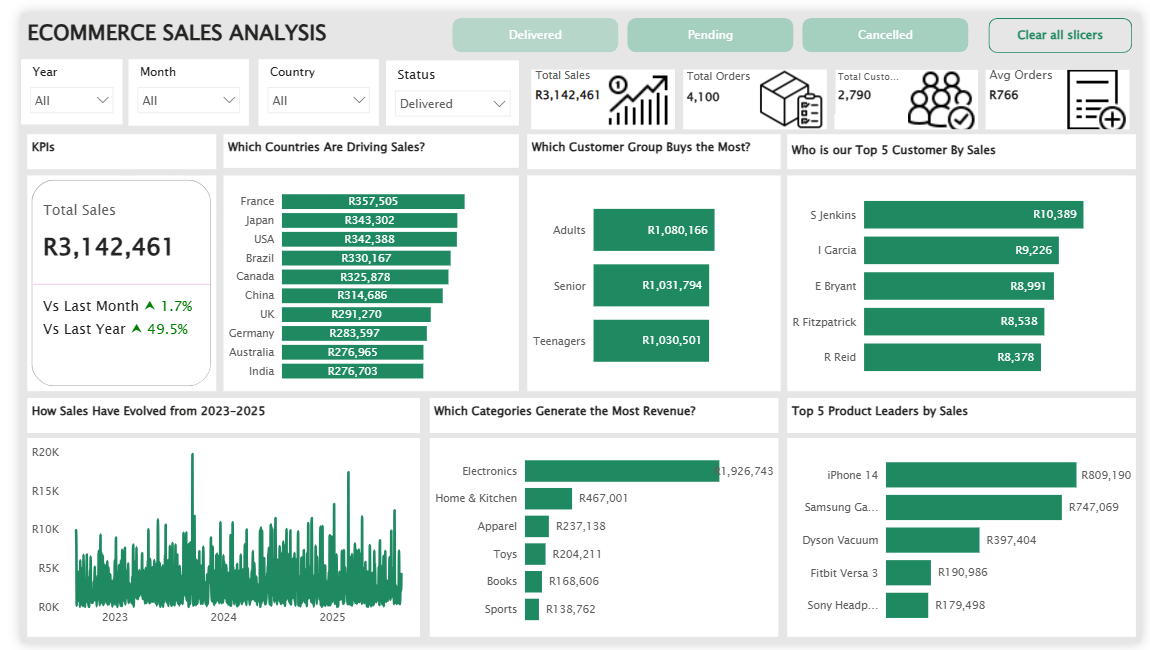

The dashboard page shown, as its layout file describes it:
{"tool":"powerbi","page":{"name":"Overview","canvas":[1280,720],"ordinal":0},"visuals":[{"type":"cardVisual","fields":{"Data":["My Measures.Total Sales","My Measures.Total Orders","My Measures.Total Customers","My Measures.Avg Order Values"]},"box":[577.9,53.1,702.1,74.8],"z":0,"group":"g1"},{"type":"barChart","fields":{"Category":["eCommerceData.country"],"Y":["My Measures.Total Sales"]},"box":[231.6,185.8,337.8,246.1],"z":0},{"type":"group","id":"g1","title":"Group 1","box":[577.9,53.1,702.1,74.8],"z":1000},{"type":"barChart","fields":{"Y":["My Measures.Total Sales"],"Category":["eCommerceData.category"]},"box":[466.9,486.2,398.1,226.8],"z":2000},{"type":"barChart","fields":{"Y":["My Measures.Total Sales"],"Category":["eCommerceData.product_name"]},"box":[875.9,486.2,398.1,226.8],"z":3000},{"type":"shape","box":[702.3,60.9,105.7,54.3],"z":3500,"group":"g1"},{"type":"shape","box":[1051.9,61.5,107.7,54.3],"z":4000,"group":"g1"},{"type":"barChart","fields":{"Y":["My Measures.Total Sales"],"Category":["eCommerceData.Full Name"]},"box":[875.9,185.8,398.1,246.1],"z":4000},{"type":"shape","box":[877.1,62.2,105.7,54.3],"z":4500,"group":"g1"},{"type":"lineChart","fields":{"Y":["My Measures.Total Sales"],"Category":["DateTable.Date"]},"box":[7.2,486.2,448.8,226.8],"z":5000},{"type":"slicer","fields":{"Values":["eCommerceData.country"]},"box":[271.4,53.1,137.5,76],"z":6000},{"type":"slicer","fields":{"Values":["DateTable.Year"]},"box":[0,53.1,115.8,74.8],"z":7000},{"type":"slicer","fields":{"Values":["DateTable.Month Name"]},"box":[123.1,53.1,137.5,76],"z":8000},{"type":"cardVisual","fields":{"Data":["My Measures.Total Sales"]},"box":[7.2,185.8,216,246.1],"z":9000},{"type":"textbox","box":[7.2,138.7,216,39.8],"z":10000},{"type":"textbox","box":[231.6,138.7,337.8,38.6],"z":11000},{"type":"textbox","box":[466.9,440.4,398.1,39.8],"z":12000},{"type":"textbox","box":[7.2,440.4,448.8,39.8],"z":13000},{"type":"textbox","box":[875.9,440.4,398.1,39.8],"z":14000},{"type":"textbox","box":[875.9,138.7,398.1,39.8],"z":15000},{"type":"clusteredBarChart","fields":{"Category":["eCommerceData.age_group"],"Y":["My Measures.Total Sales"]},"box":[577.9,185.8,289.5,246.1],"z":16000},{"type":"textbox","box":[577.9,138.7,289.5,39.8],"z":17000},{"type":"textbox","box":[7.2,0,435.5,54.3],"z":18000},{"type":"slicer","fields":{"Values":["eCommerceData.Group Status"]},"box":[417.4,54.3,152,74.8],"z":19000},{"type":"actionButton","box":[1106.3,6,164.1,39.8],"z":20000},{"type":"bookmarkNavigator","box":[493.4,6,591.2,39.8],"z":21000}]}

Visuals, with their boxes in screenshot pixels (x1, y1, x2, y2), scaled from the page's 1280x720 canvas onto the 1150x650 screenshot:
cardVisual - My Measures.Total Sales x My Measures.Total Orders: [left=519, top=48, right=1149, bottom=115]
barChart - eCommerceData.country x My Measures.Total Sales: [left=208, top=168, right=512, bottom=390]
"Group 1" group: [left=519, top=48, right=1149, bottom=115]
barChart - My Measures.Total Sales x eCommerceData.category: [left=419, top=439, right=777, bottom=644]
barChart - My Measures.Total Sales x eCommerceData.product_name: [left=787, top=439, right=1145, bottom=644]
shape: [left=631, top=55, right=726, bottom=104]
shape: [left=945, top=56, right=1042, bottom=105]
barChart - My Measures.Total Sales x eCommerceData.Full Name: [left=787, top=168, right=1145, bottom=390]
shape: [left=788, top=56, right=883, bottom=105]
lineChart - My Measures.Total Sales x DateTable.Date: [left=6, top=439, right=410, bottom=644]
slicer - eCommerceData.country: [left=244, top=48, right=367, bottom=117]
slicer - DateTable.Year: [left=0, top=48, right=104, bottom=115]
slicer - DateTable.Month Name: [left=111, top=48, right=234, bottom=117]
cardVisual - My Measures.Total Sales: [left=6, top=168, right=201, bottom=390]
textbox: [left=6, top=125, right=201, bottom=161]
textbox: [left=208, top=125, right=512, bottom=160]
textbox: [left=419, top=398, right=777, bottom=434]
textbox: [left=6, top=398, right=410, bottom=434]
textbox: [left=787, top=398, right=1145, bottom=434]
textbox: [left=787, top=125, right=1145, bottom=161]
clusteredBarChart - eCommerceData.age_group x My Measures.Total Sales: [left=519, top=168, right=779, bottom=390]
textbox: [left=519, top=125, right=779, bottom=161]
textbox: [left=6, top=0, right=398, bottom=49]
slicer - eCommerceData.Group Status: [left=375, top=49, right=512, bottom=117]
actionButton: [left=994, top=5, right=1141, bottom=41]
bookmarkNavigator: [left=443, top=5, right=974, bottom=41]
